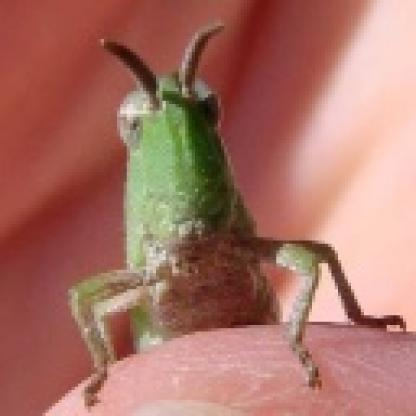grasshopper: (65, 25, 411, 408)
